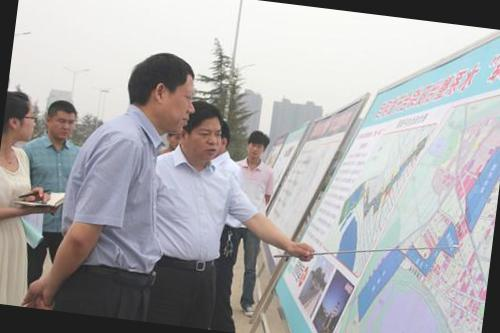no_helmet: (120, 46, 201, 136), (179, 101, 231, 166), (41, 94, 82, 145), (3, 86, 38, 144), (242, 126, 272, 167)
